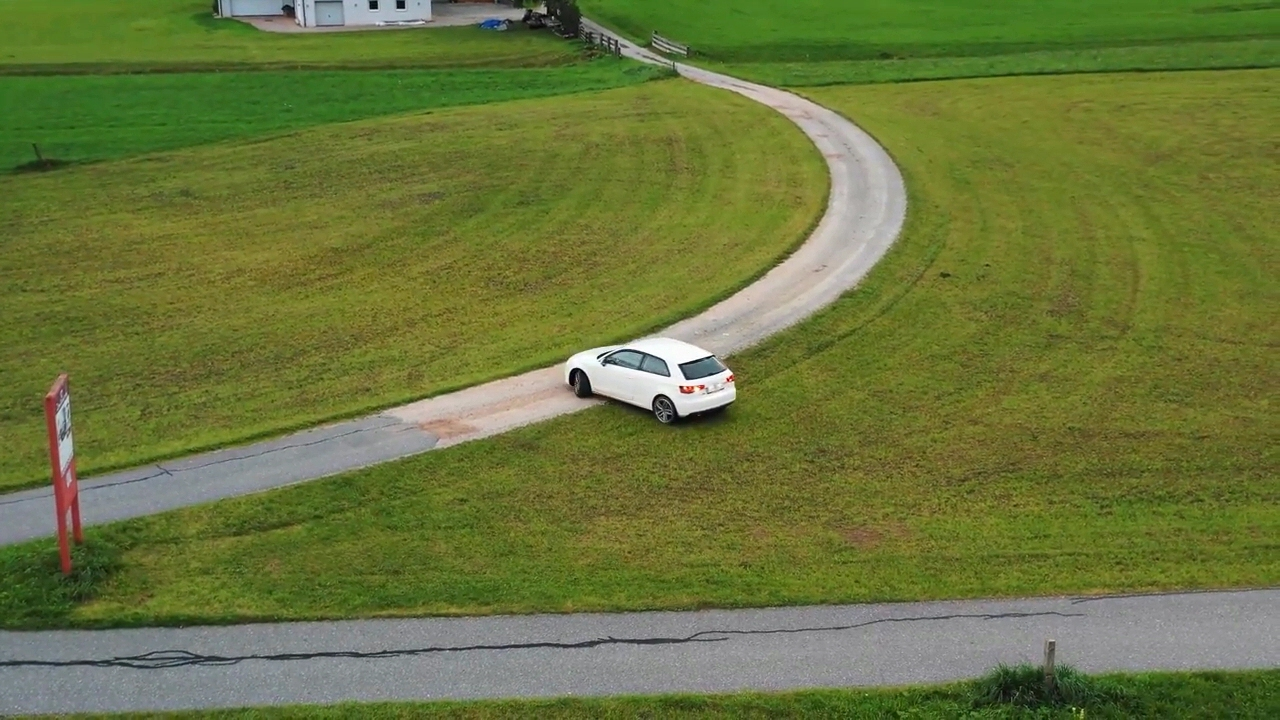araba: (559, 338, 739, 424)
